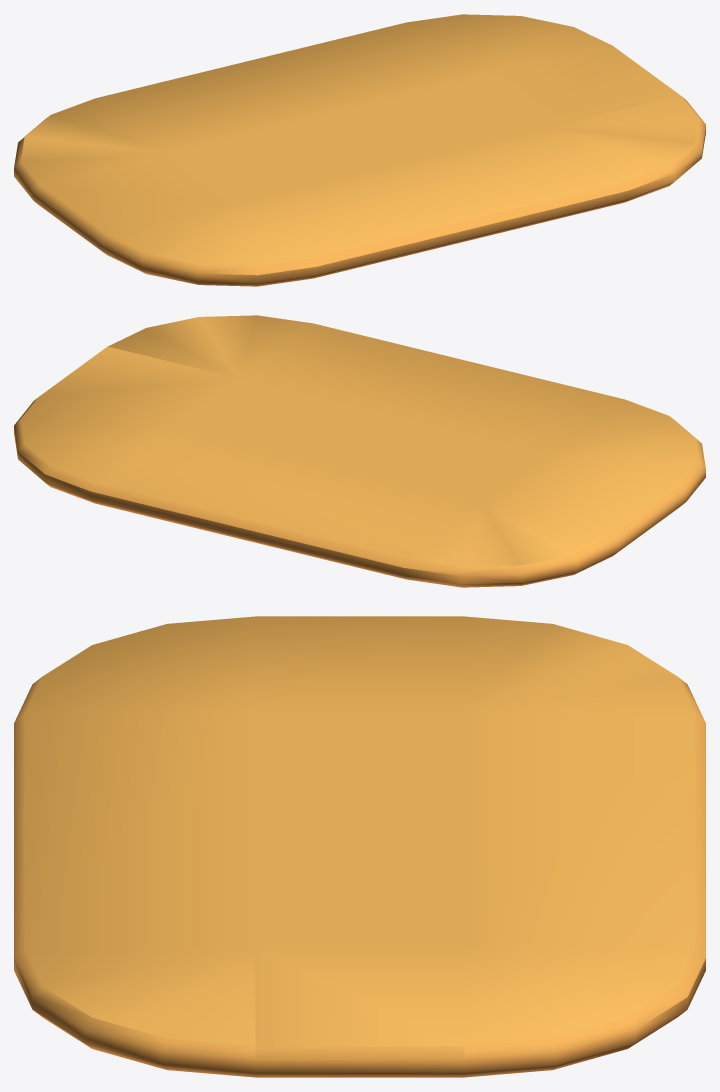
Rendered from rug_oval_A.glb.
3 renders of one model, top to bottom at view 1: azimuth 30°, elevation 25°; view 2: azimuth 150°, elevation 25°; view 3: azimuth 270°, elevation 25°, orthographic. The views are drawn at different scales.
Visible parts, largest first — view 1: rug_oval_A; view 2: rug_oval_A; view 3: rug_oval_A.
Part boxes in pixels (box(x1,y1,x2,y2)): rug_oval_A: box(14, 14, 705, 286); rug_oval_A: box(14, 315, 705, 587); rug_oval_A: box(14, 616, 705, 1077).
Bounding box in the file's own units: 3 × 0.1 × 2.
Materials: 1 (1 with a texture image).
